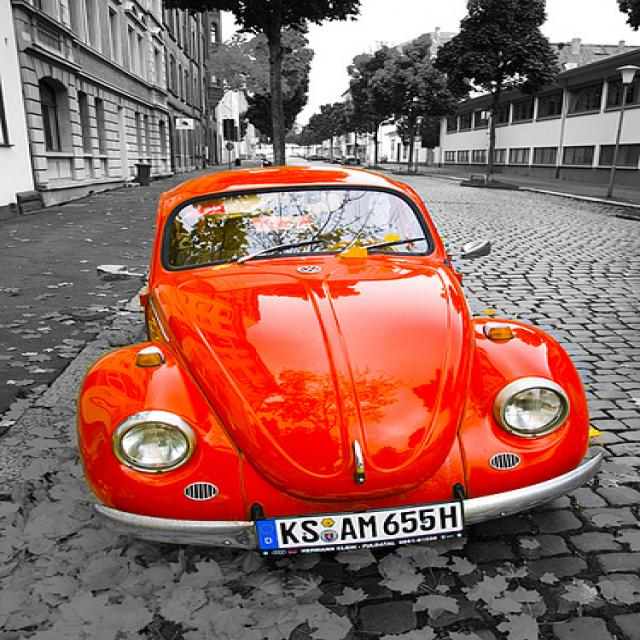Car: (72, 152, 600, 571)
